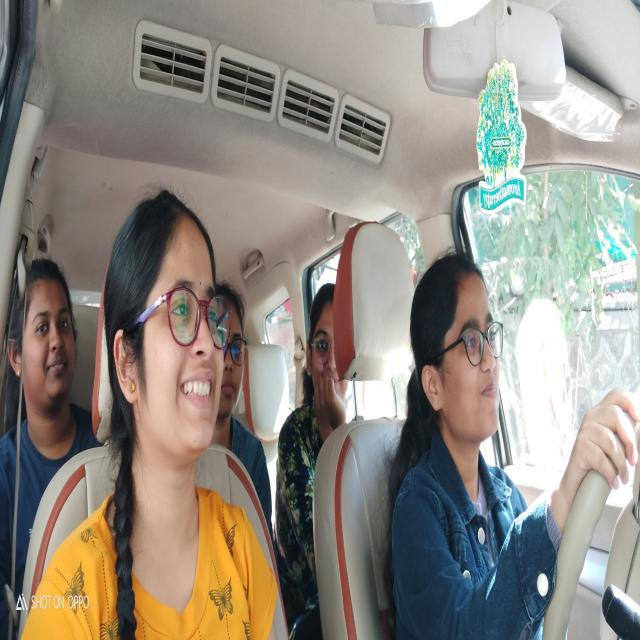person: (102, 173, 228, 461), (408, 245, 512, 460), (9, 247, 82, 429), (302, 274, 350, 444), (215, 256, 248, 447)
